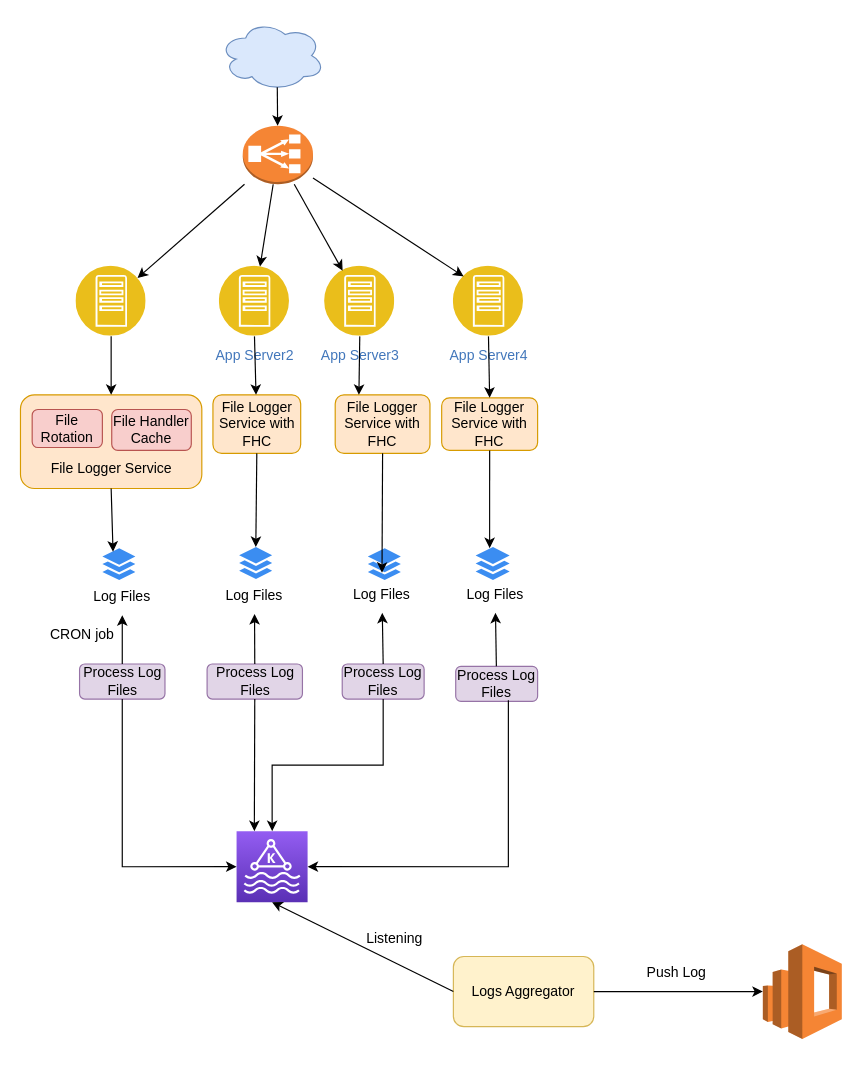
This 862x1083 diagram has some shape labels left out. The shapes that lost their labels are listed below. From the top down, each one's centre as x and y in pixels, then its label:
point 271,55: Cloud
point 110,301: App Server1
point 271,866: Kafka - Log topic
point 802,991: ELK
